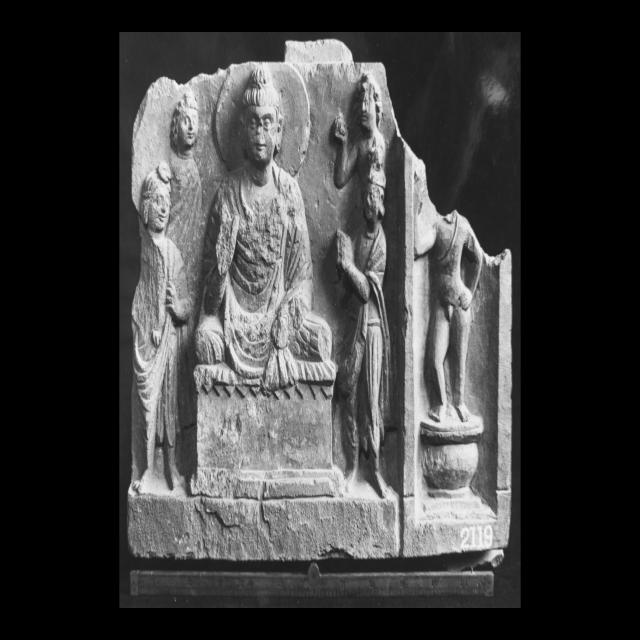buddha-sitting: (190, 62, 344, 500)
